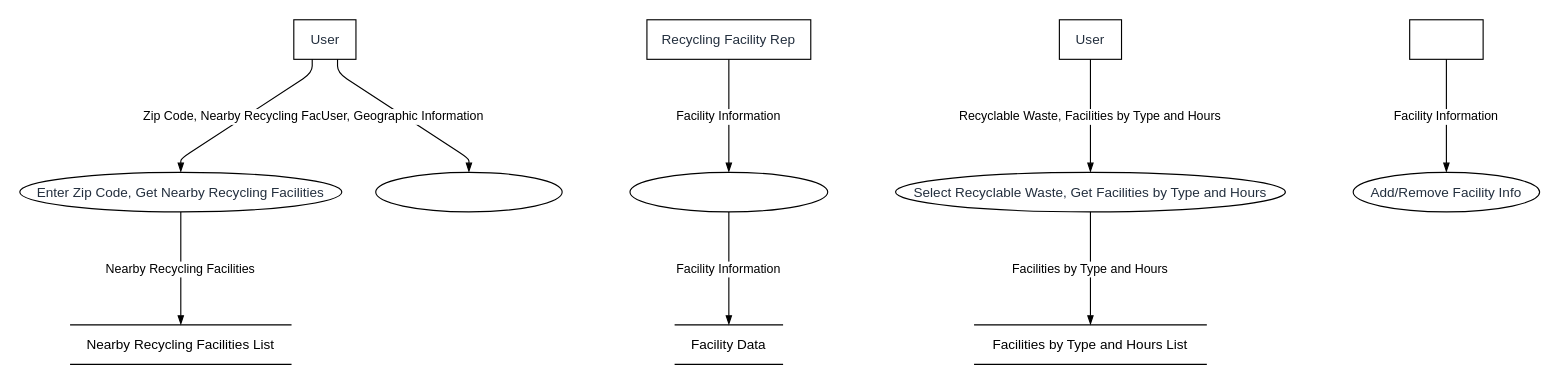
Some shapes in this 1559 by 384 pixel diagram are drawn without their labels. Here are the shapes that lost their labels. From the top down, the box of each, then its label:
(1409, 19, 1483, 59): Admin
(375, 171, 562, 212): Public Recycling Bins Map
(629, 171, 828, 212): Update Facility Information
